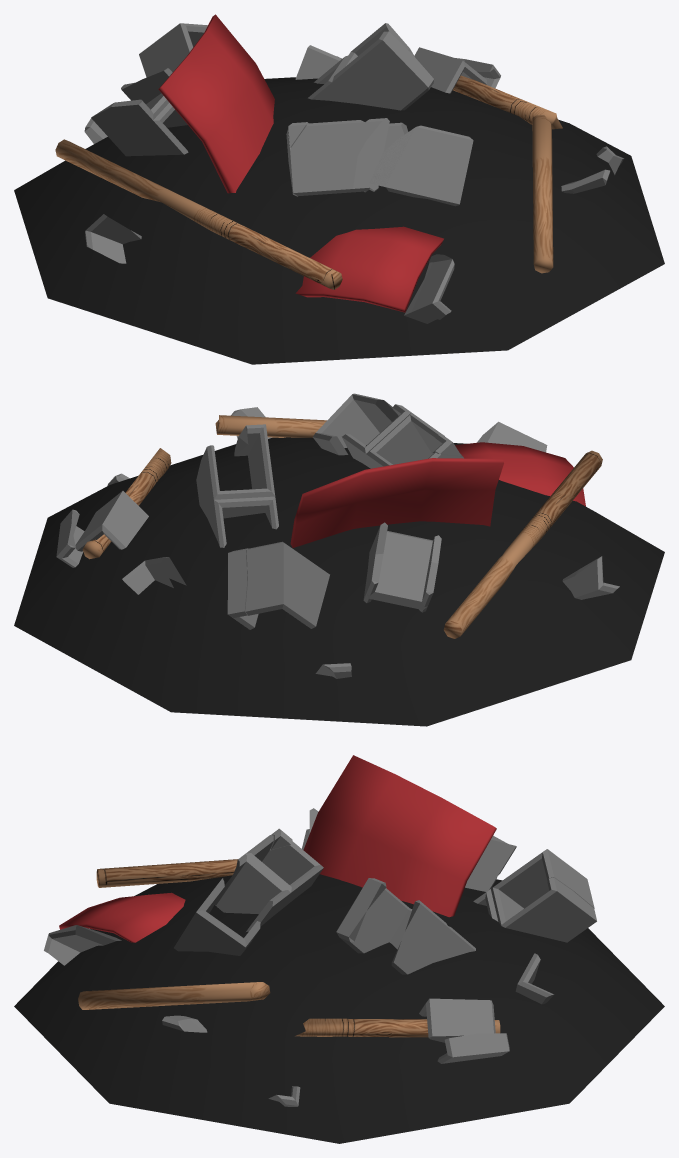
File: Monton de escombros.fbx
3 renders of one model, top to bottom at view 1: azimuth 30°, elevation 25°; view 2: azimuth 150°, elevation 25°; view 3: azimuth 270°, elevation 25°, orthographic. The views are drawn at different scales.
Visible parts, largest first — view 1: Monton de Basura, Chapon, Chapita, Escombro.002, Escombro, Palo entero, Escombro.003, Escombro.004, Palo roto, Escombro.008, Escombro.001, Palo roto.001 (+4 smaller); view 2: Monton de Basura, Chapon, Escombro.001, Escombro, Escombro.004, Palo entero, Escombro.002, Chapita, Escombro.003, Escombro.005, Palo roto, Palo roto.001 (+4 smaller); view 3: Monton de Basura, Chapon, Escombro.001, Escombro, Escombro.002, Palo roto, Chapita, Palo entero, Escombro.005, Escombro.003, Palo roto.001, Escombro.012 (+3 smaller).
Part boxes in pixels (x1,y1,x2,y2): Monton de Basura: [14, 77, 664, 364]; Chapon: [158, 14, 274, 193]; Chapita: [295, 226, 443, 312]; Escombro.002: [286, 118, 408, 196]; Escombro: [308, 23, 433, 110]; Palo entero: [55, 139, 342, 289]; Escombro.003: [369, 125, 473, 206]; Escombro.004: [91, 68, 188, 156]; Palo roto: [532, 115, 553, 273]; Escombro.008: [404, 254, 454, 323]; Escombro.001: [139, 23, 207, 77]; Palo roto.001: [453, 75, 562, 129]; Monton de Basura: [14, 437, 664, 726]; Chapon: [290, 458, 503, 547]; Escombro.001: [227, 541, 329, 629]; Escombro: [196, 424, 278, 547]; Escombro.004: [363, 522, 441, 612]; Palo entero: [443, 450, 602, 638]; Escombro.002: [342, 404, 463, 468]; Chapita: [455, 442, 585, 506]; Escombro.003: [313, 393, 398, 455]; Escombro.005: [75, 491, 148, 551]; Palo roto: [215, 415, 326, 437]; Palo roto.001: [82, 448, 171, 559]; Monton de Basura: [14, 874, 664, 1143]; Chapon: [303, 755, 496, 917]; Escombro.001: [473, 849, 596, 942]; Escombro: [336, 878, 475, 974]; Escombro.002: [214, 835, 323, 931]; Palo roto: [78, 982, 270, 1009]; Chapita: [59, 892, 185, 942]; Palo entero: [96, 859, 237, 887]; Escombro.005: [419, 998, 495, 1042]; Escombro.003: [174, 878, 260, 955]; Palo roto.001: [295, 1018, 500, 1037]; Escombro.012: [437, 1033, 509, 1063].
Bounding box in the file's own units: 180 × 58.64 × 180.
